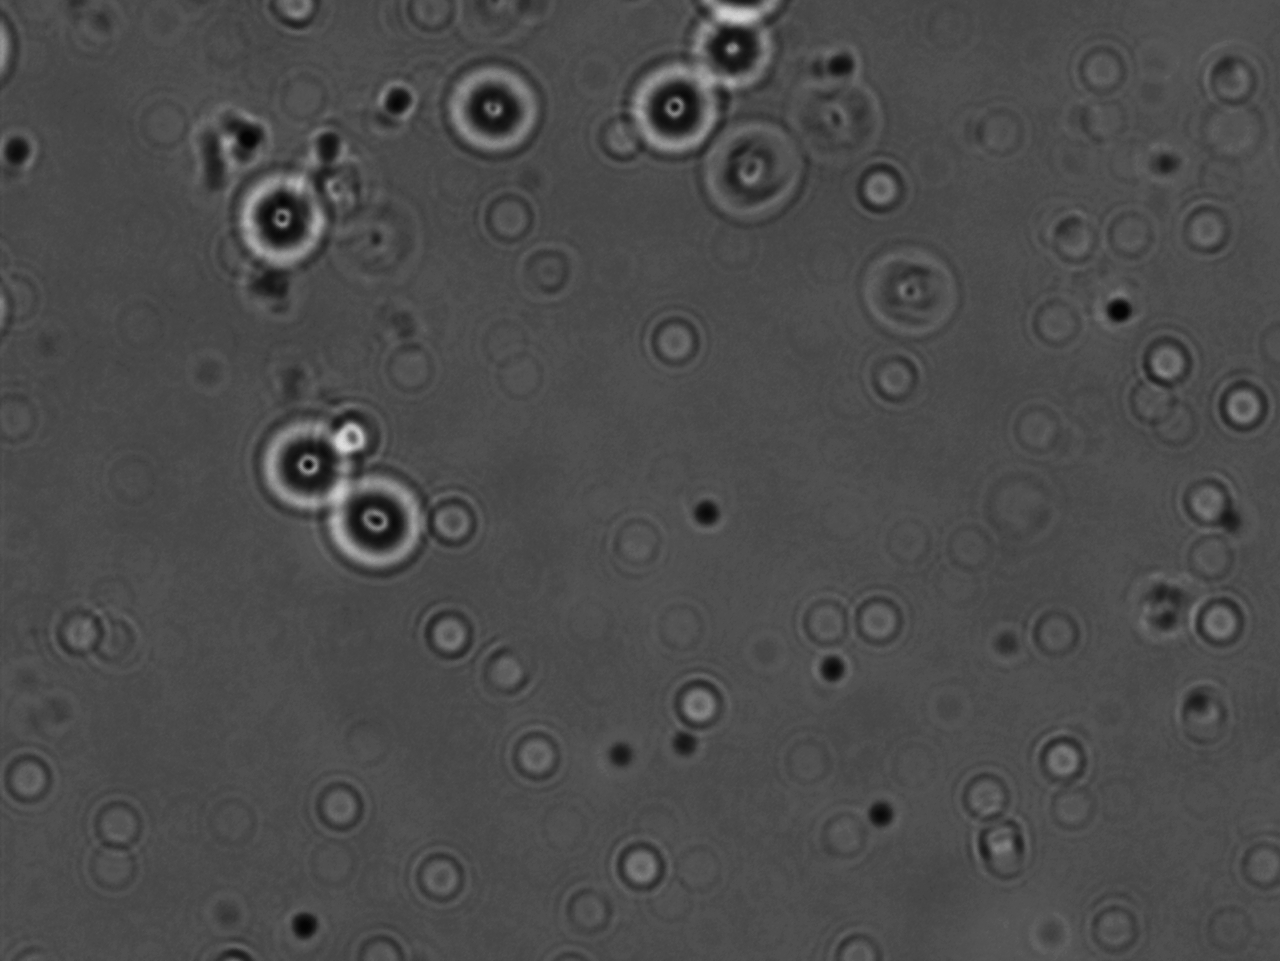depth:-8: (439, 49, 563, 169), (618, 58, 733, 172), (248, 410, 365, 522), (226, 161, 335, 279), (316, 472, 432, 580), (683, 16, 793, 97)
